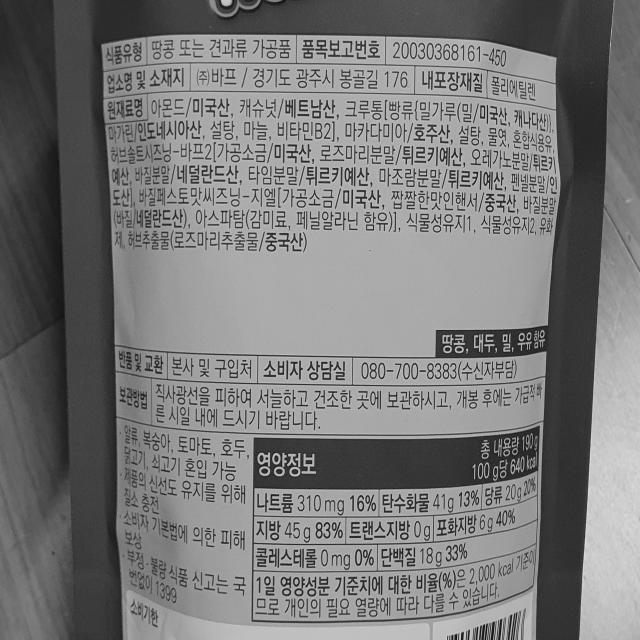Nutrition Label: (241, 421, 552, 640)
